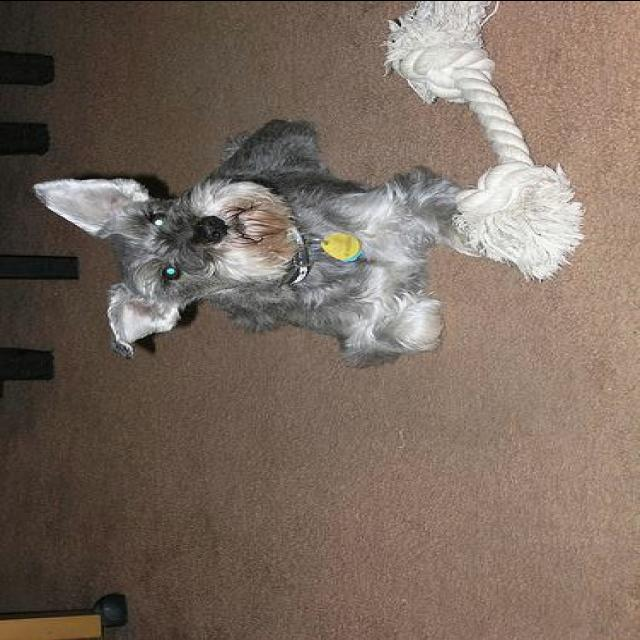standard_schnauzer: (32, 114, 484, 372)
